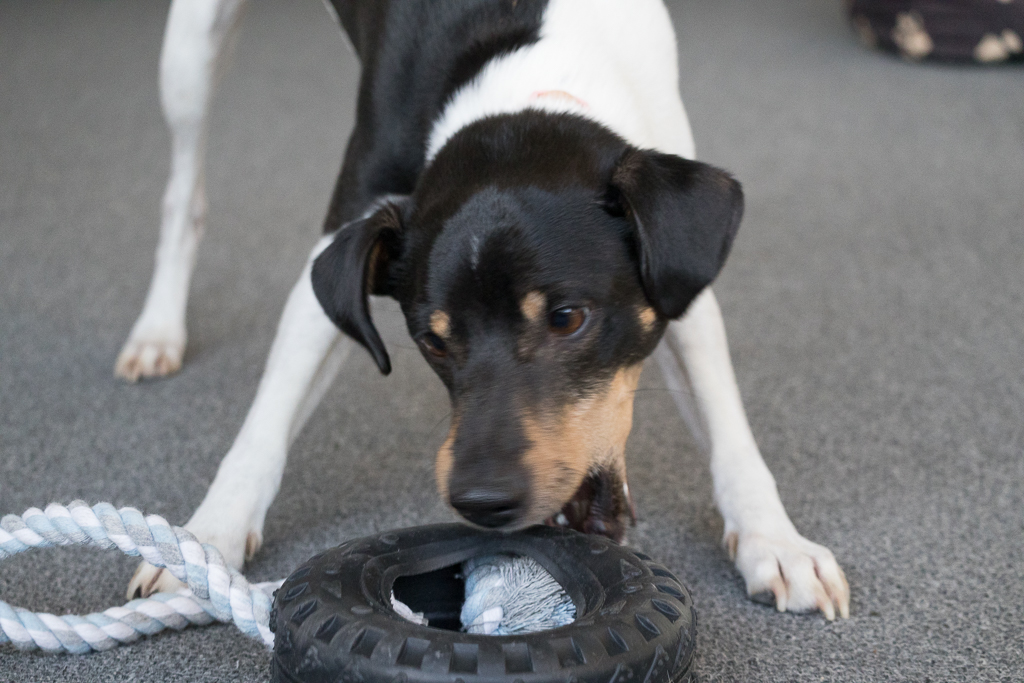Dog: (94, 0, 873, 640)
